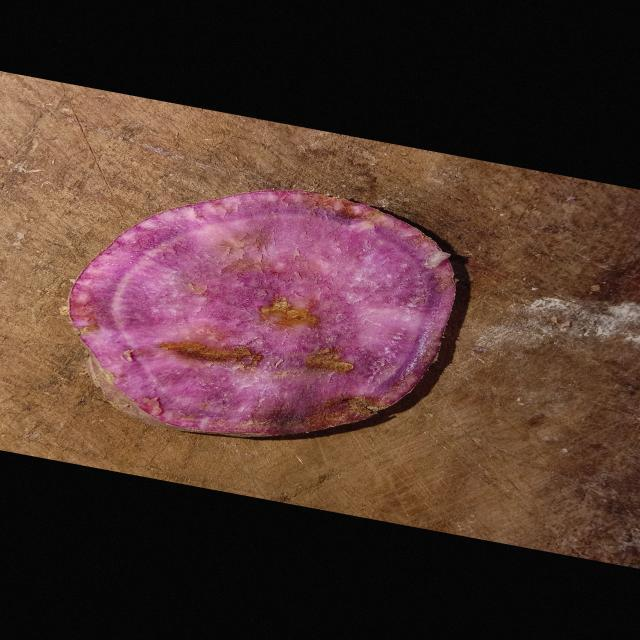Sick Sweet Potato_Tuber Rot: (69, 190, 456, 438)
